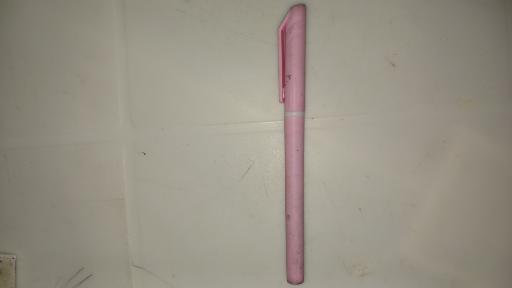pen: (278, 3, 304, 286)
